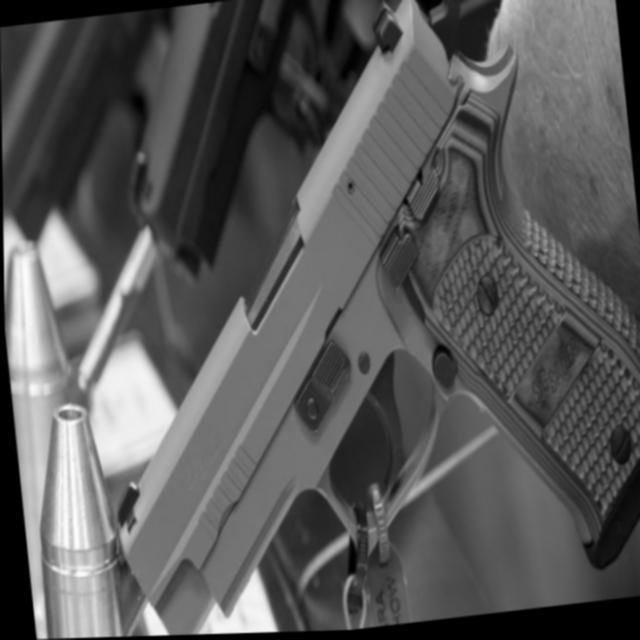weapon: (58, 0, 640, 639)
